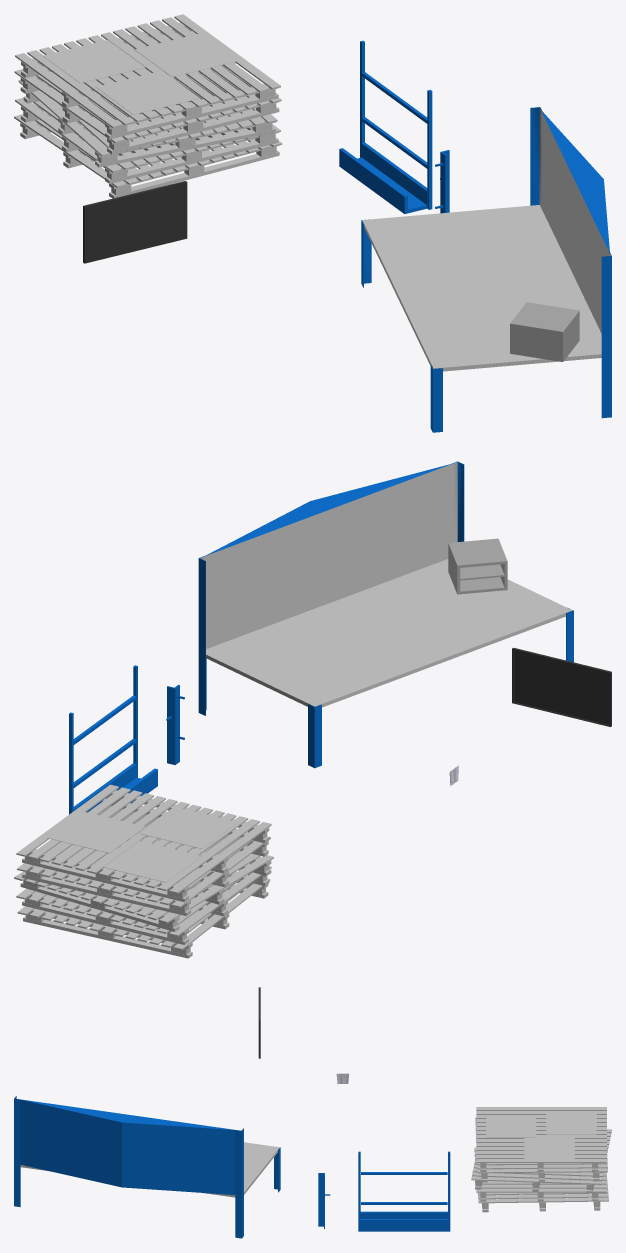
File: hyperc_tools.fbx
3 renders of one model, top to bottom at view 1: azimuth 30°, elevation 25°; view 2: azimuth 150°, elevation 25°; view 3: azimuth 270°, elevation 25°, orthographic. The views are drawn at different scales.
Parts seen in each view (by area): view 1: polySurface373, pCube206, polySurface374, check_board, pCube210, pCube212, pCube211, pCube213, polySurface368, pCube201, pCube208, pCube209 (+5 smaller); view 2: polySurface374, polySurface373, pCube206, check_board, pCube210, pCube212, pCube211, pCube213, polySurface368, pCube208, pCube209, pCube207 (+3 smaller); view 3: polySurface374, pCube206, pCube201, pCube211, pCube213, pCube212, pCube210, polySurface373, pCube208, pCube209, pCube207, place_tools.
Part boxes in pixels (<box>): polySurface373: <box>362,205,601,371</box>; pCube206: <box>15,14,280,139</box>; polySurface374: <box>530,107,611,418</box>; check_board: <box>83,181,187,263</box>; pCube210: <box>14,34,281,154</box>; pCube212: <box>15,98,280,183</box>; pCube211: <box>18,80,277,167</box>; pCube213: <box>14,114,282,198</box>; polySurface368: <box>510,302,579,361</box>; pCube201: <box>339,142,427,213</box>; pCube208: <box>134,33,236,77</box>; pCube209: <box>43,40,145,83</box>; polySurface374: <box>198,461,464,715</box>; polySurface373: <box>206,559,572,707</box>; pCube206: <box>16,784,271,902</box>; check_board: <box>512,647,611,726</box>; pCube210: <box>17,806,270,916</box>; pCube212: <box>16,863,271,944</box>; pCube211: <box>14,851,273,931</box>; pCube213: <box>17,877,270,958</box>; polySurface368: <box>448,538,507,594</box>; pCube208: <box>47,811,145,853</box>; pCube209: <box>103,840,201,882</box>; pCube207: <box>140,807,237,848</box>; polySurface374: <box>14,1096,243,1238</box>; pCube206: <box>476,1107,606,1171</box>; pCube201: <box>360,1211,447,1231</box>; pCube211: <box>471,1129,611,1193</box>; pCube213: <box>474,1147,608,1212</box>; pCube212: <box>476,1164,606,1201</box>; pCube210: <box>475,1117,607,1182</box>; polySurface373: <box>20,1142,279,1197</box>; pCube208: <box>524,1138,574,1159</box>; pCube209: <box>546,1113,596,1134</box>; pCube207: <box>486,1116,536,1137</box>; place_tools: <box>318,1173,330,1228</box>.
Size of the model in its own units: 594 by 206 by 1040.
